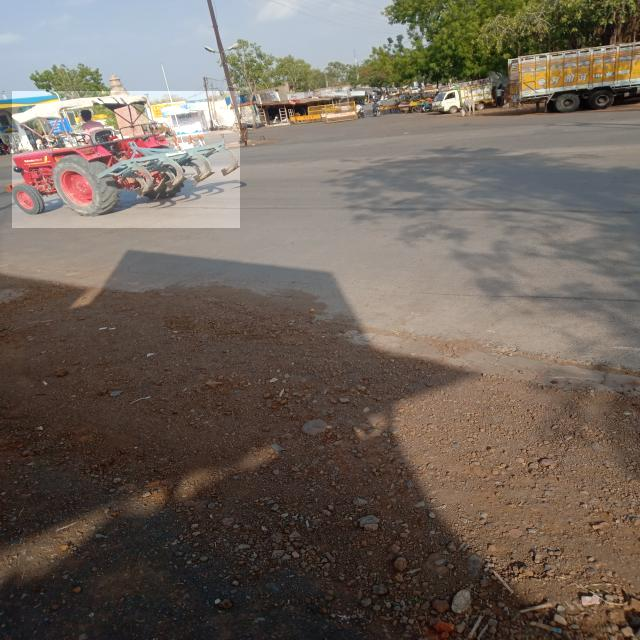Tractot: (12, 91, 240, 228)
